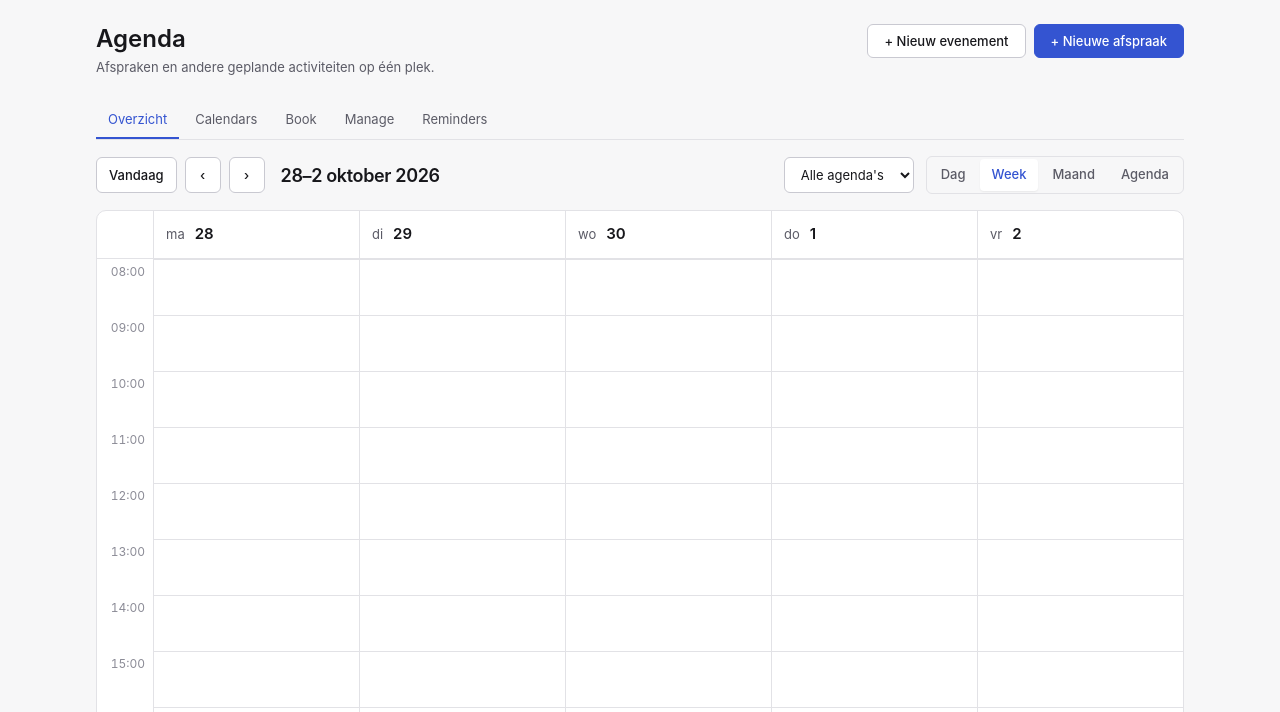
Scenario: AppointmentsWeekPage › opens the real booking form in a dialog titled 'Afspraak inplannen' from the header action
What coordinates should you click on to do the following:
click the button "+ Nieuwe afspraak"
I would click on:
 (1109, 41)
Its box is [1034,24,1184,58].
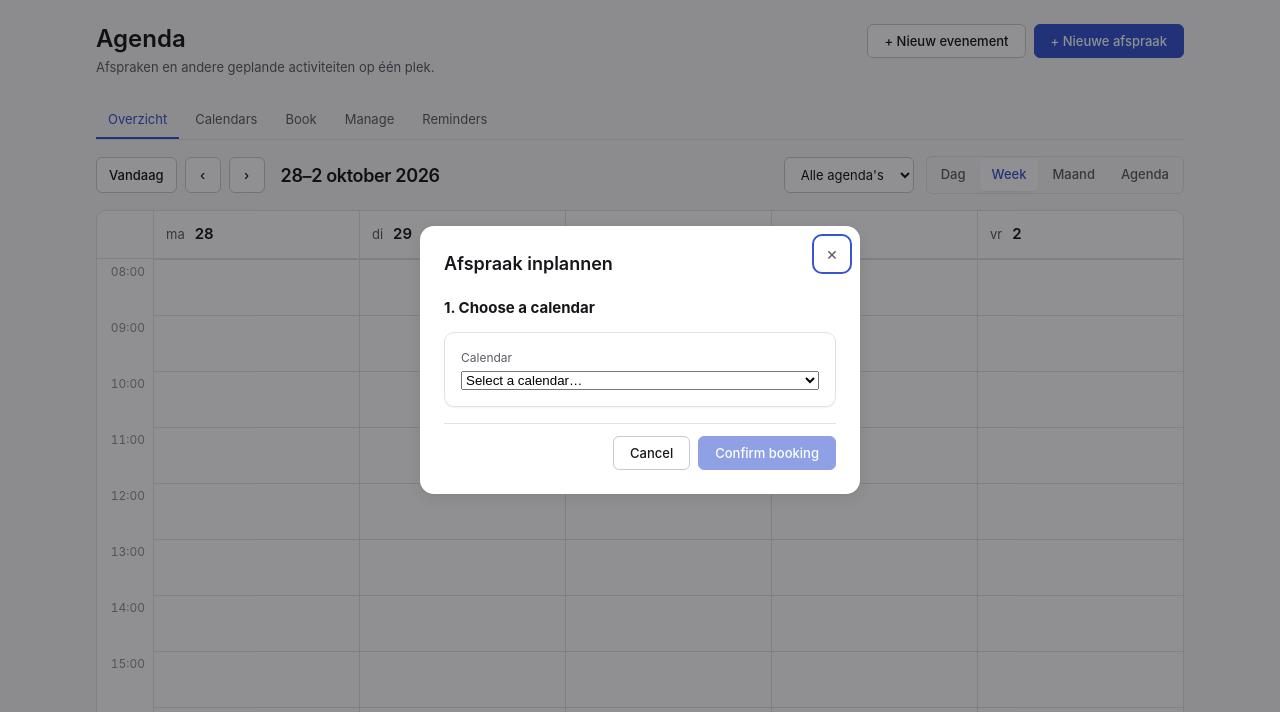
Expected: the heading "1. Choose a calendar" is shown, [444,298,595,317]
Expected: the dialog "Afspraak inplannen" is shown, [420,226,860,494]
